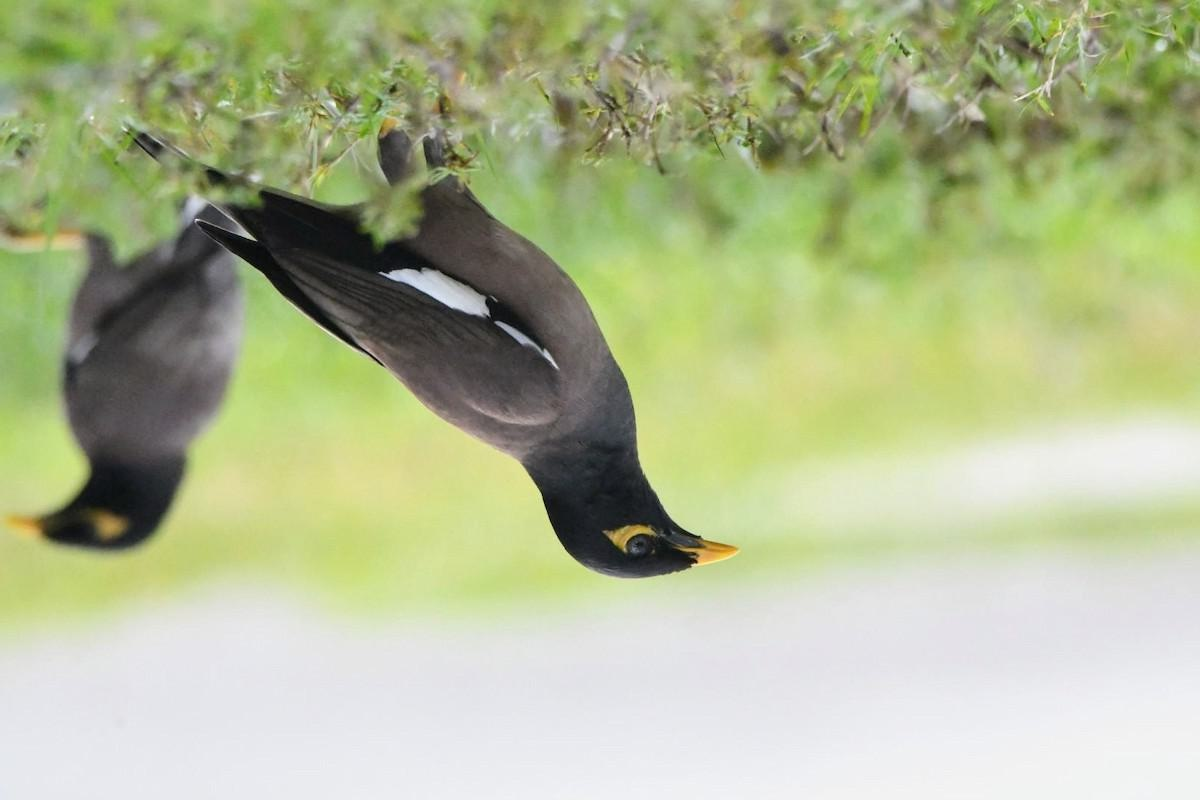myna: (159, 117, 785, 612)
